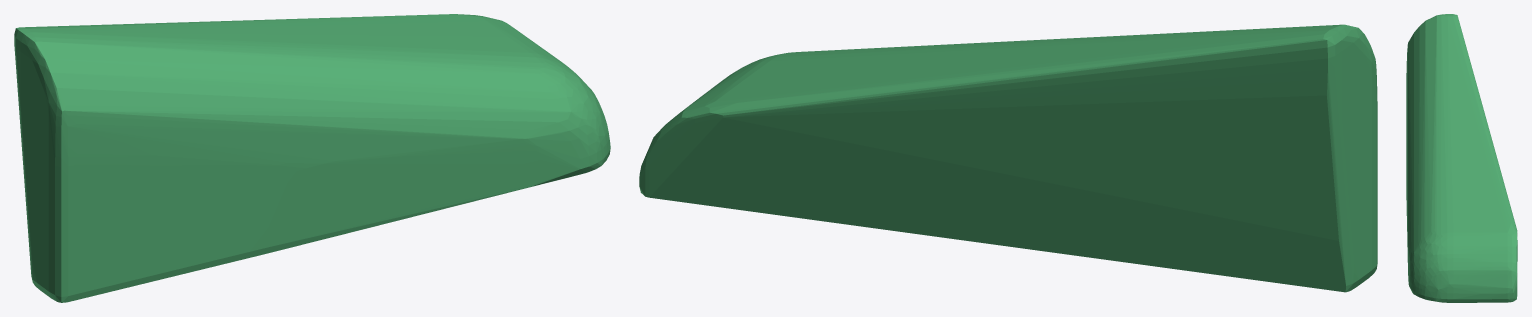
The model's file is left-toe-B-0_part_3.obj.
The picture shows the model from 3 angles, left to right: view 1: azimuth 30°, elevation 25°; view 2: azimuth 150°, elevation 25°; view 3: azimuth 270°, elevation 25°; orthographic projection. The views are drawn at different scales.
Bounding box in the file's own units: 0.0455 × 0.0185 × 0.0137.
